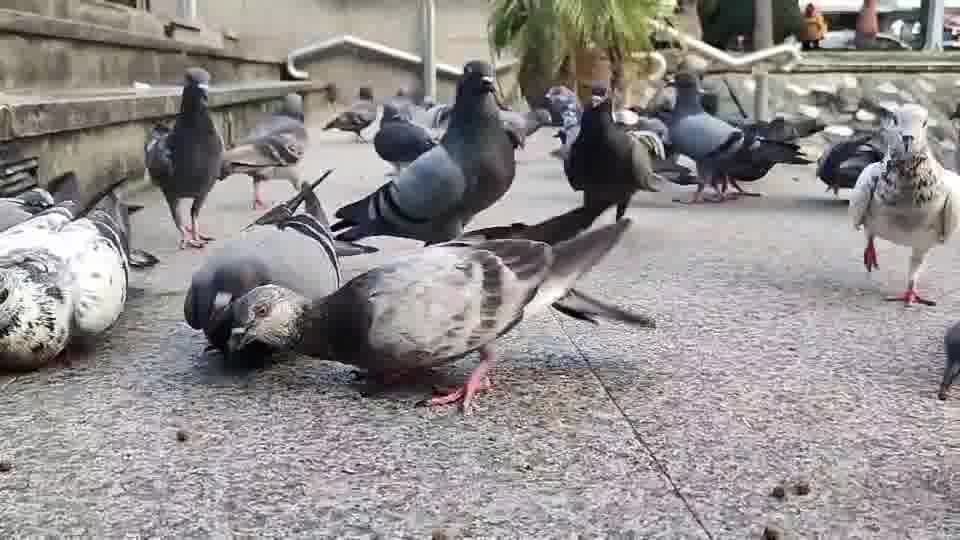Pigeon: (222, 216, 655, 415), (328, 60, 519, 244), (0, 172, 144, 371), (846, 105, 956, 307), (564, 88, 670, 244), (143, 66, 225, 249), (660, 70, 745, 203), (219, 92, 307, 210), (937, 318, 959, 400)
